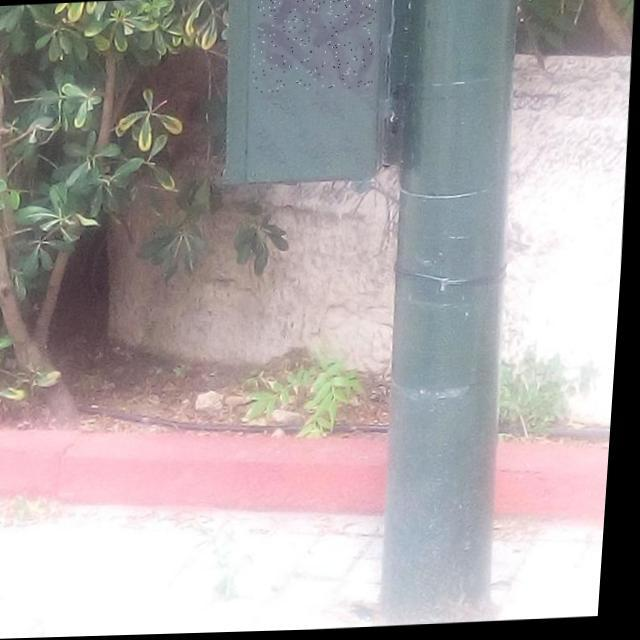-: (250, 0, 378, 94)
